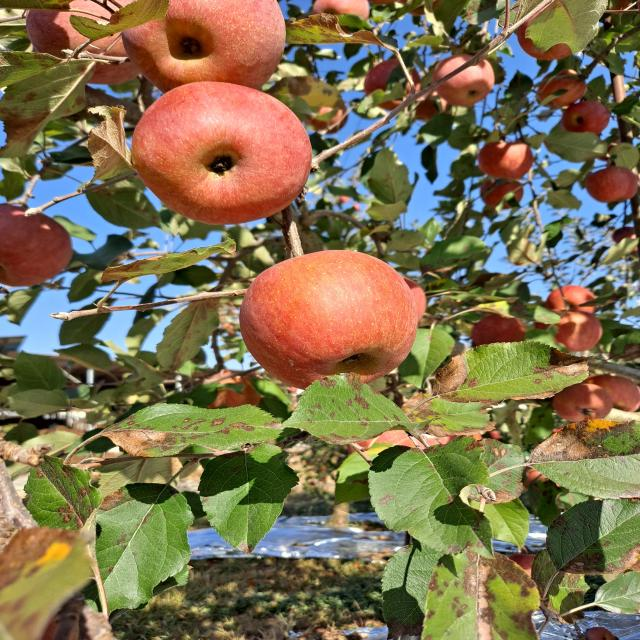fresh: (125, 73, 322, 232), (232, 245, 433, 392)
